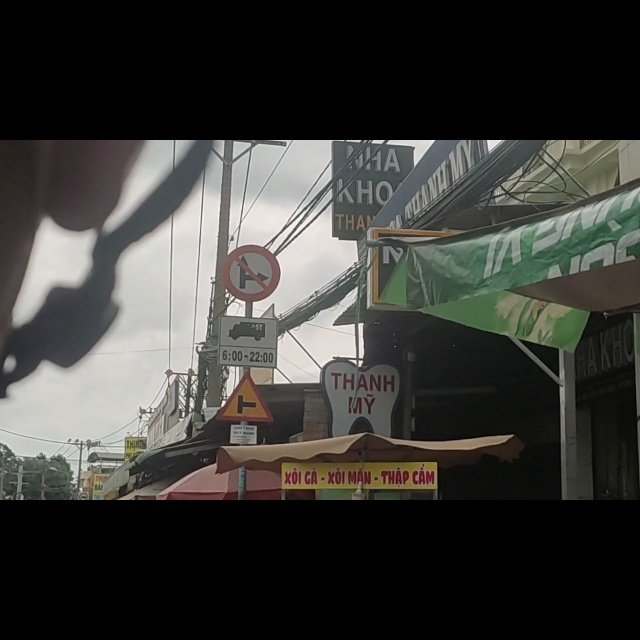bien_nguy_hiem: (218, 312, 277, 404), (225, 187, 279, 283), (217, 412, 271, 504)
